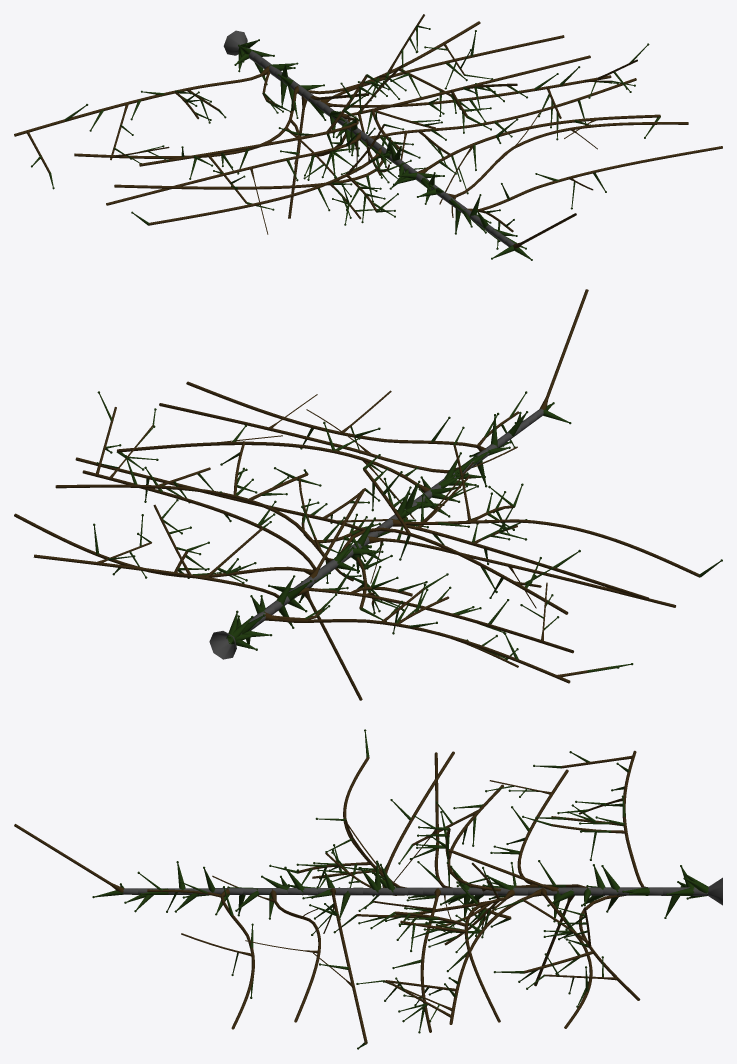
File: tree_14.obj
The picture shows the model from 3 angles, top to bottom: view 1: azimuth 30°, elevation 25°; view 2: azimuth 150°, elevation 25°; view 3: azimuth 270°, elevation 25°; orthographic projection. The views are drawn at different scales.
Bounding box in the file's own units: 4.47 × 1.36 × 4.73.
